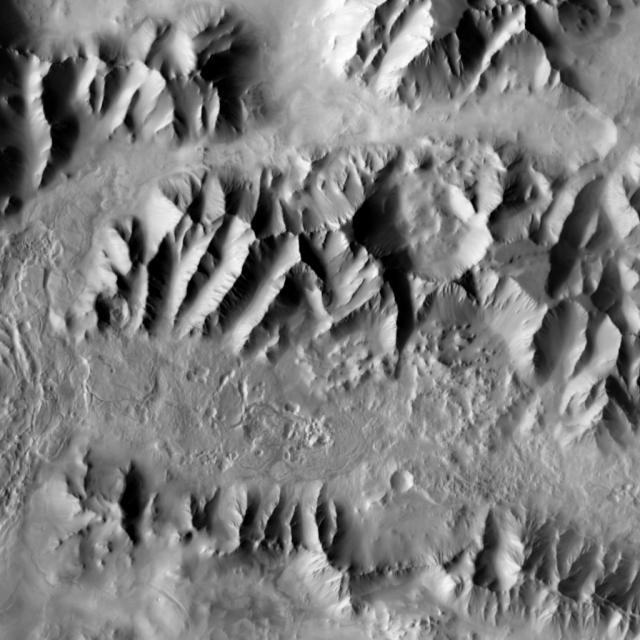crater: (398, 470, 422, 494), (327, 433, 337, 443), (213, 407, 223, 417), (200, 370, 207, 377)
